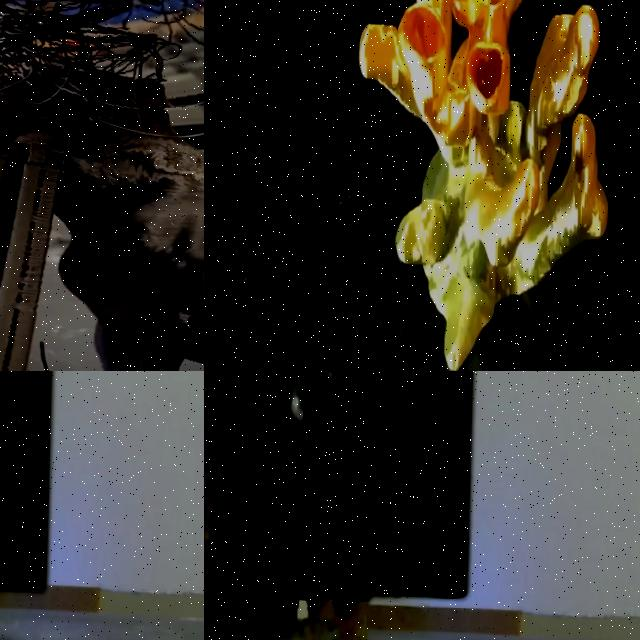spaghetti: (0, 0, 204, 137), (289, 600, 366, 640)
